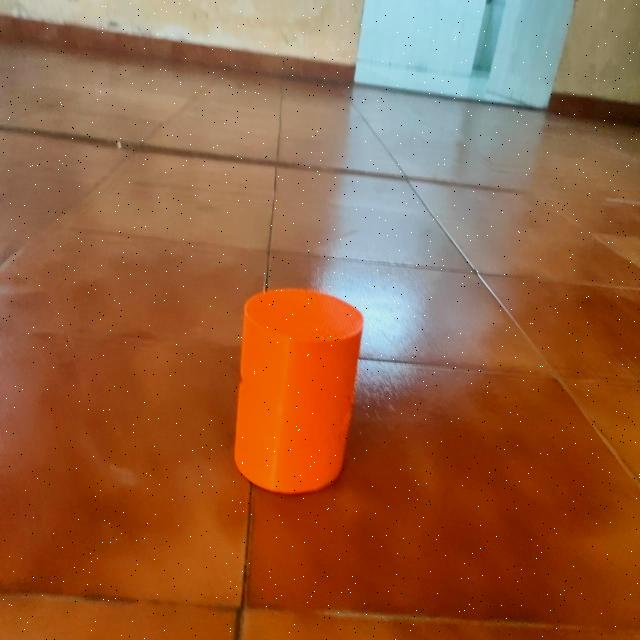Cylinder: (233, 286, 365, 494)
